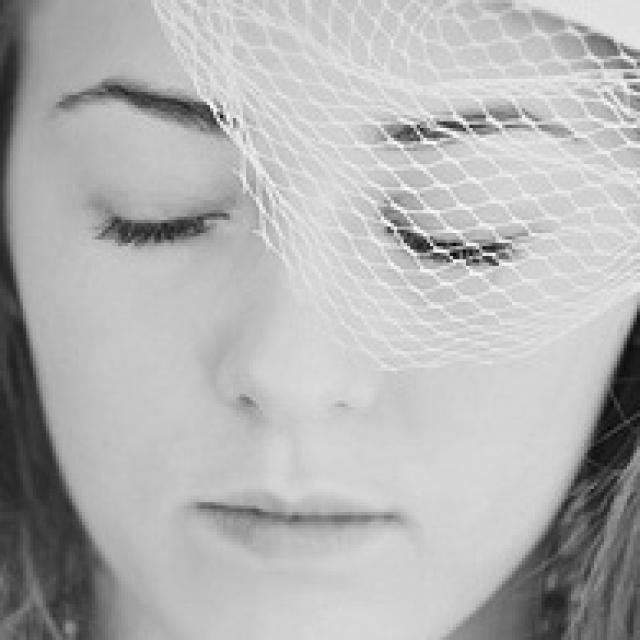real: (38, 24, 582, 607), (83, 136, 528, 292)
